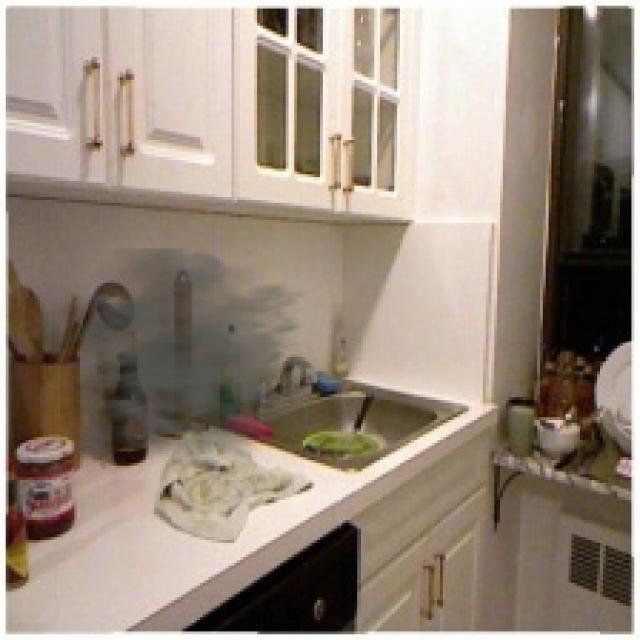Smoke: (52, 248, 334, 468)
